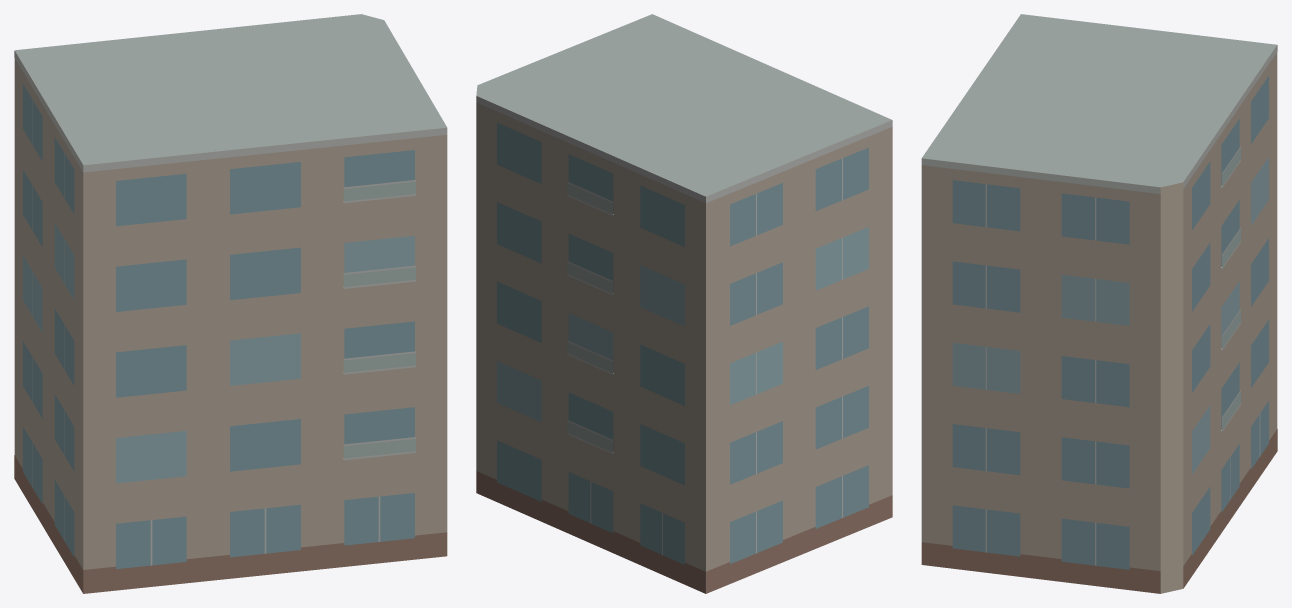
File: survey-upis-32875692.glb
3 views of the same model, side by side, from view 1: azimuth 30°, elevation 25°; view 2: azimuth 150°, elevation 25°; view 3: azimuth 270°, elevation 25° (orthographic). The views are drawn at different scales.
Visible parts, largest first — view 1: survey-upis-32875692.tmp; view 2: survey-upis-32875692.tmp; view 3: survey-upis-32875692.tmp.
Boxes of the visible parts, <box> form: survey-upis-32875692.tmp: <box>14,14,447,593</box>; survey-upis-32875692.tmp: <box>476,14,892,593</box>; survey-upis-32875692.tmp: <box>921,14,1277,593</box>.
Bounding box in the file's own units: 13.45 × 14.7 × 11.67.
